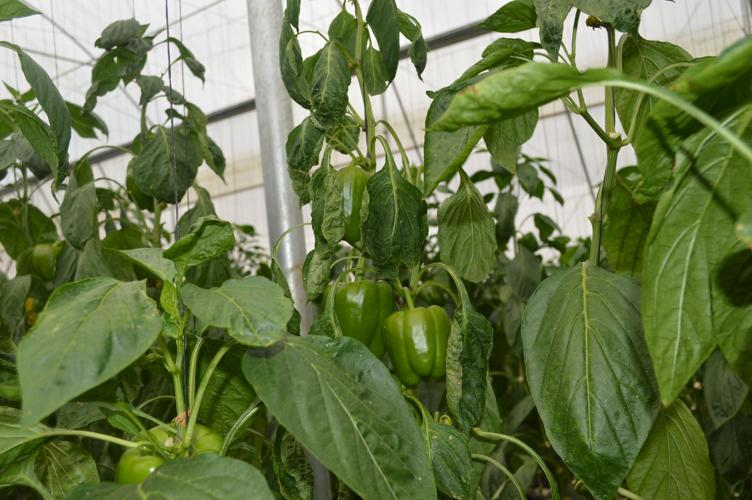BellPepper: (99, 404, 235, 494), (373, 295, 460, 390), (330, 271, 396, 371)
